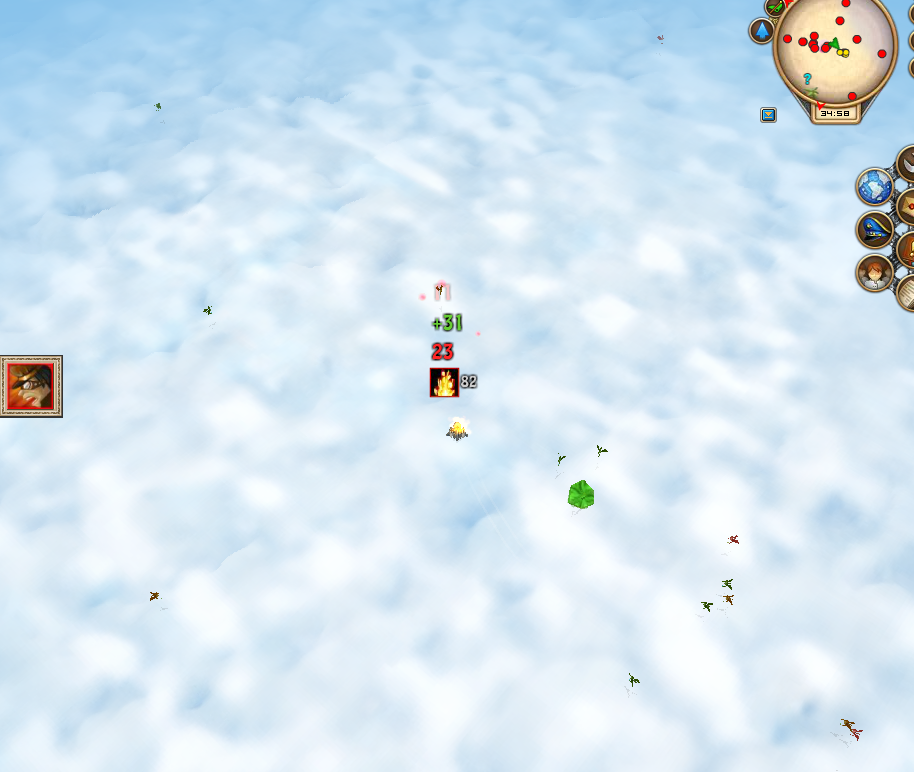dandelion-empty: (565, 479, 599, 512)
fluff: (434, 276, 451, 289), (472, 327, 483, 339), (418, 292, 428, 301)
